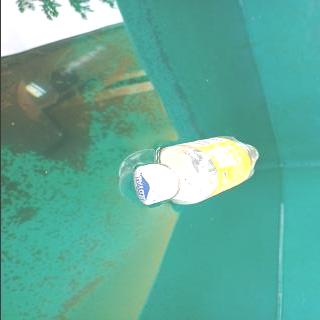bottle: (128, 133, 266, 210)
